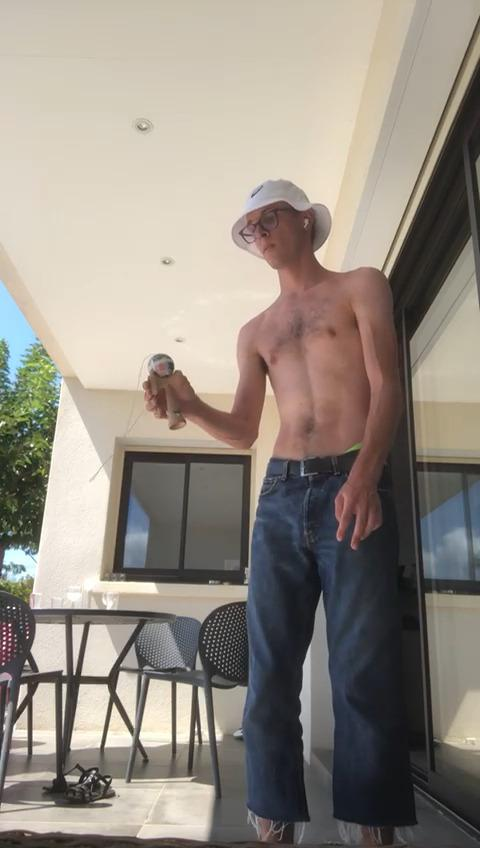kendama_ball: (147, 353, 175, 379)
